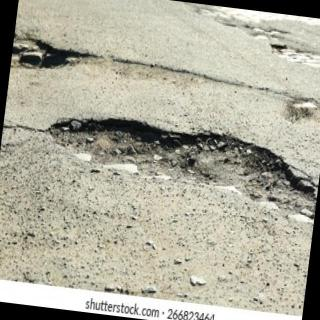pothole: (48, 119, 316, 220), (11, 39, 96, 68)
